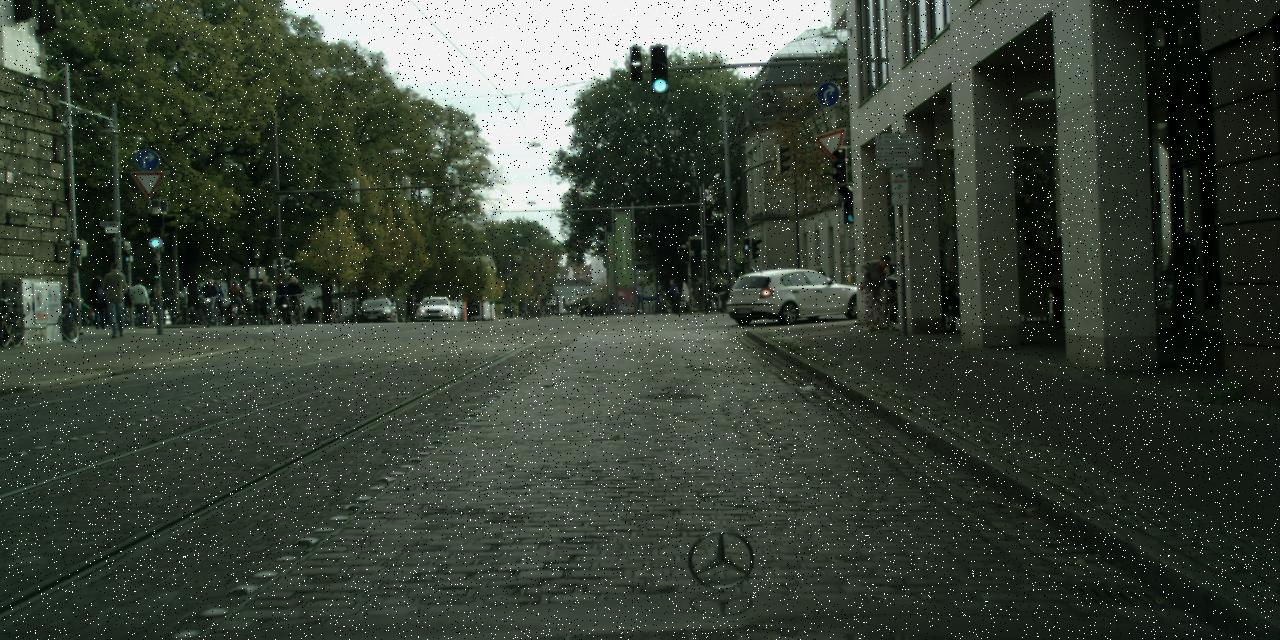ped: (1040, 235, 1078, 327), (1165, 231, 1201, 320), (865, 253, 896, 329), (101, 262, 131, 336), (88, 276, 110, 328), (130, 276, 150, 326), (201, 278, 218, 320), (812, 266, 828, 306), (287, 276, 302, 313), (274, 278, 289, 314), (210, 282, 224, 320), (257, 276, 272, 311), (666, 278, 680, 314), (227, 280, 241, 315), (727, 277, 740, 310), (716, 279, 728, 309), (580, 304, 604, 318), (712, 277, 723, 306), (386, 295, 397, 321), (314, 303, 322, 323), (306, 304, 313, 324), (503, 306, 508, 318), (508, 308, 512, 318)
